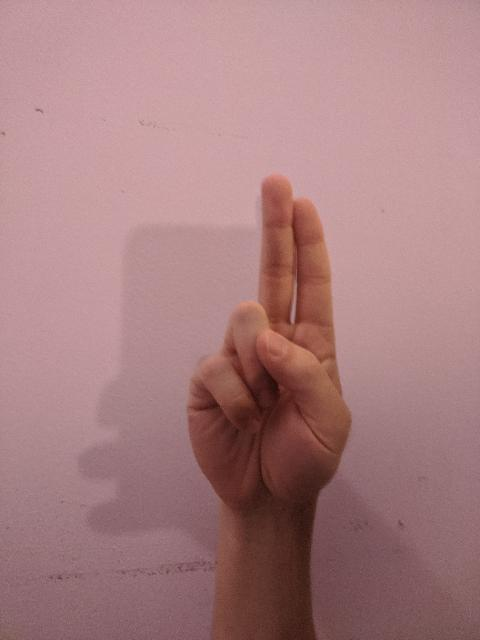U: (184, 168, 358, 516)
